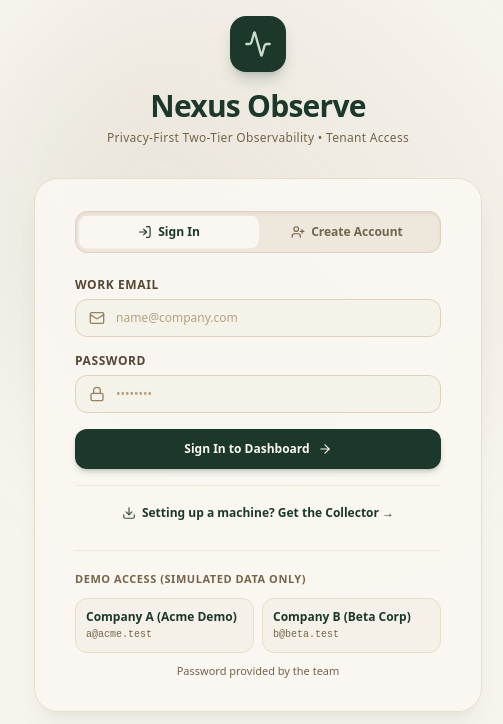
Test: Login and Tenant Claim Flow Tests › toggle works between Sign In and Create Account modes
Note: Click Create Account toggle
What coordinates should you click on to do the following:
click the button with test id "toggle-signup"
I would click on:
 (347, 232)
Its box is [258,216,436,248].
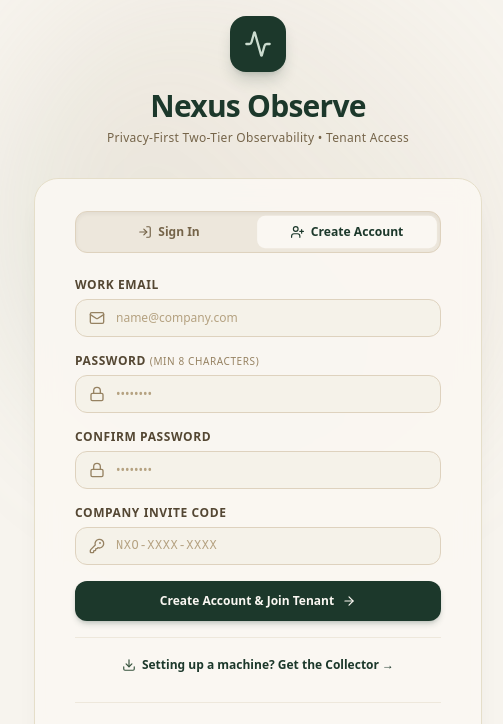
Now the password field with test id "input-confirm-password" is shown, box [75,451,441,489]
Now the field with test id "input-invite-code" is shown, box [75,527,441,565]
Note: Toggle back to Sign In
What coordinates should you click on to do the following:
click the button with test id "toggle-signin"
I would click on:
 (169, 232)
Its box is [80,216,258,248].
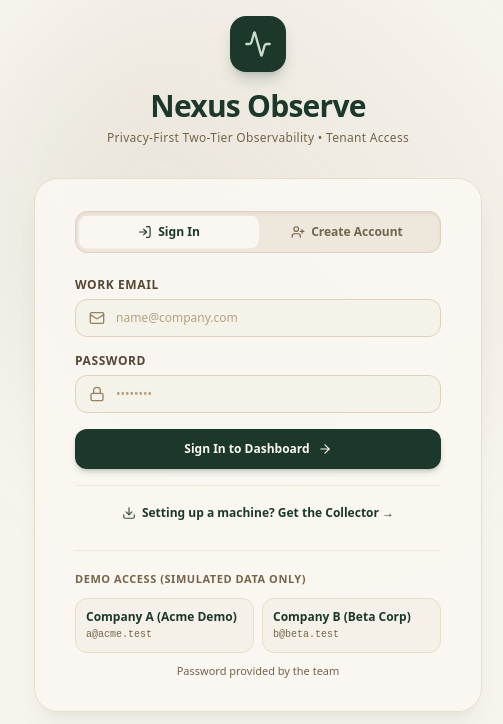
Now the password field with test id "input-confirm-password" is gone
Now the field with test id "input-invite-code" is gone
